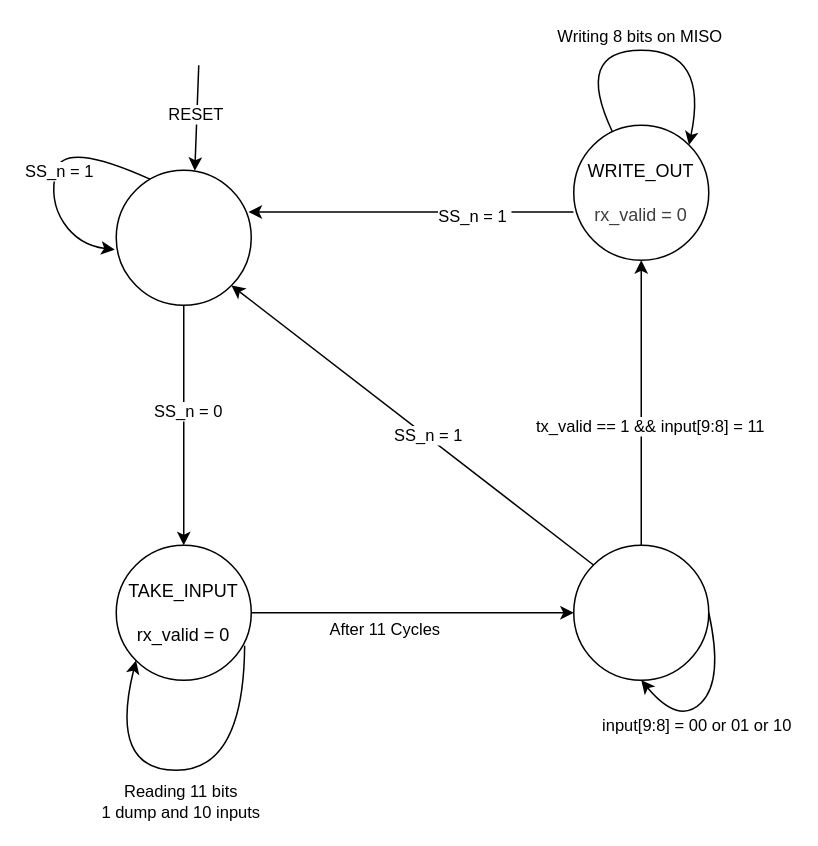
Some shapes in this 818 by 846 pixel diagram are drawn without their labels. Here are the shapes that lost their labels. From the top down, the box of each, then its label:
(115, 169, 251, 305): IDLE rx_valid = 0
(572, 544, 709, 680): WRITE_MEM rx_valid = 1
